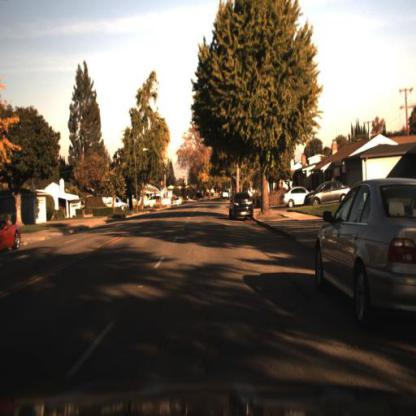car: (314, 176, 416, 335), (227, 189, 256, 225), (305, 182, 350, 205), (277, 184, 312, 210), (1, 216, 23, 257), (102, 194, 127, 210), (170, 196, 184, 208)
